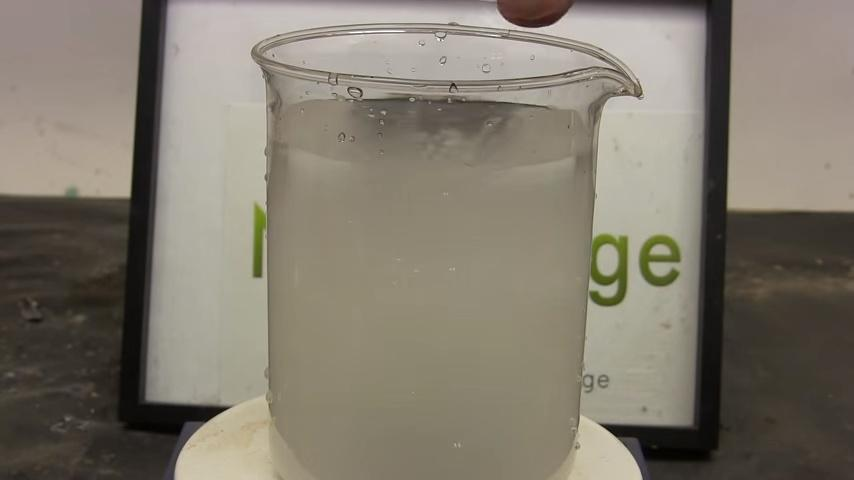Beaker: (208, 33, 697, 471)
